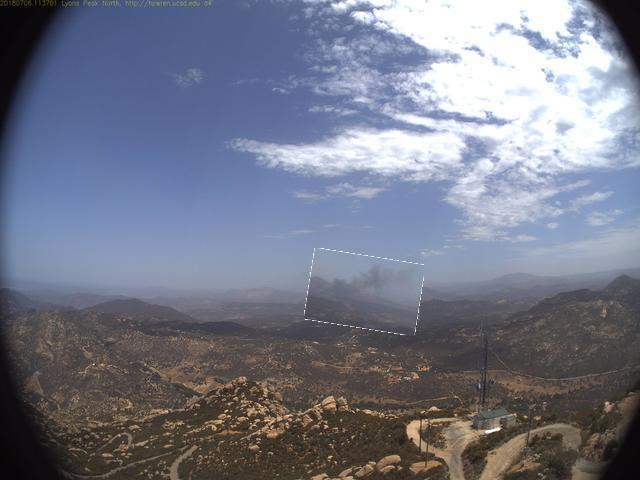smoke: (308, 253, 424, 333)
